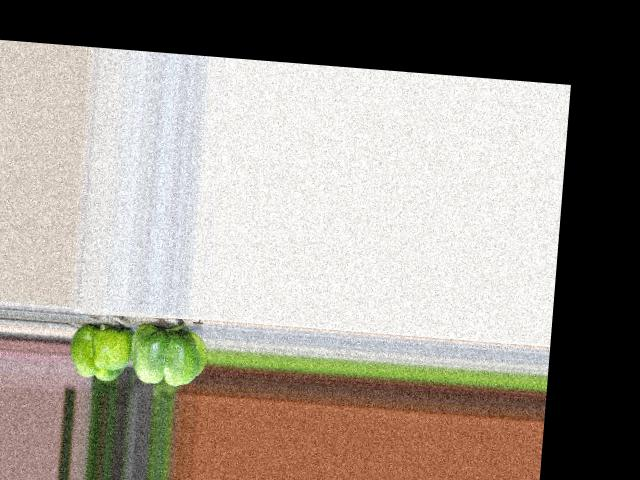bell_pepper: (65, 317, 135, 385)
